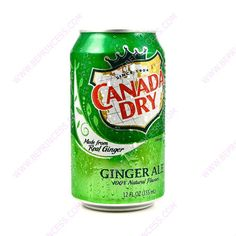Lata: (68, 25, 168, 213)
